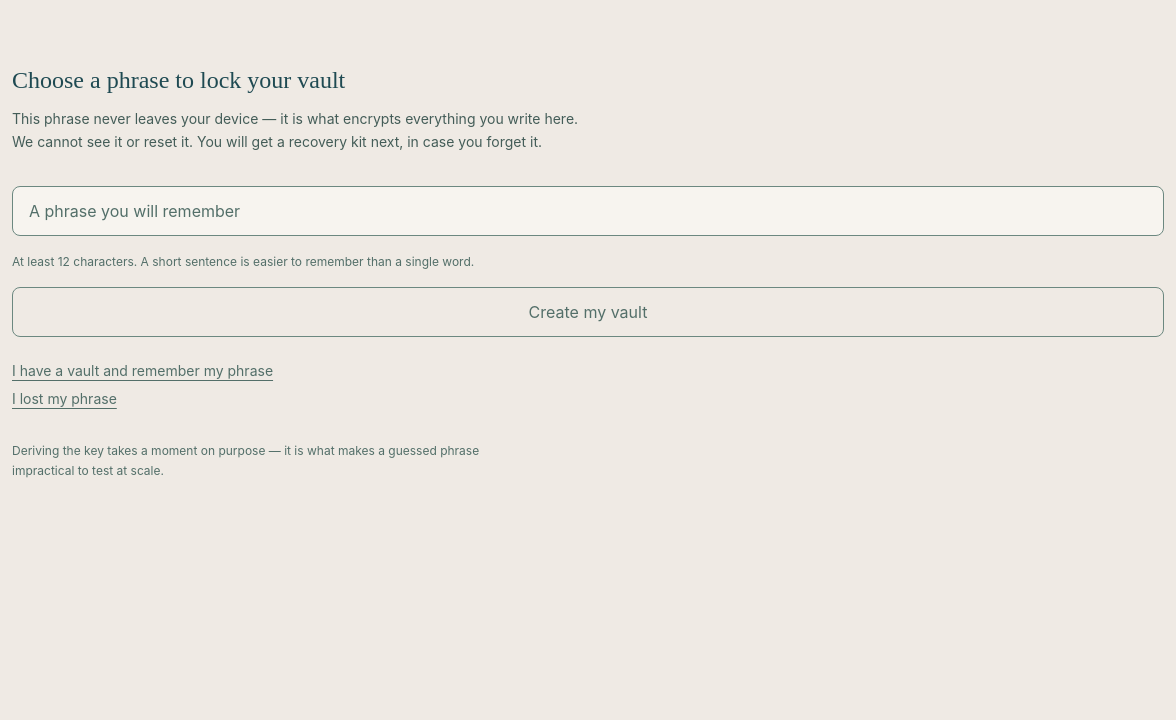
it: the way back › is reachable from the first screen
# Someone who has forgotten their phrase should not have to hunt for this.
Click the button "I lost my phrase" at point(64, 399), box [12,389,117,409]
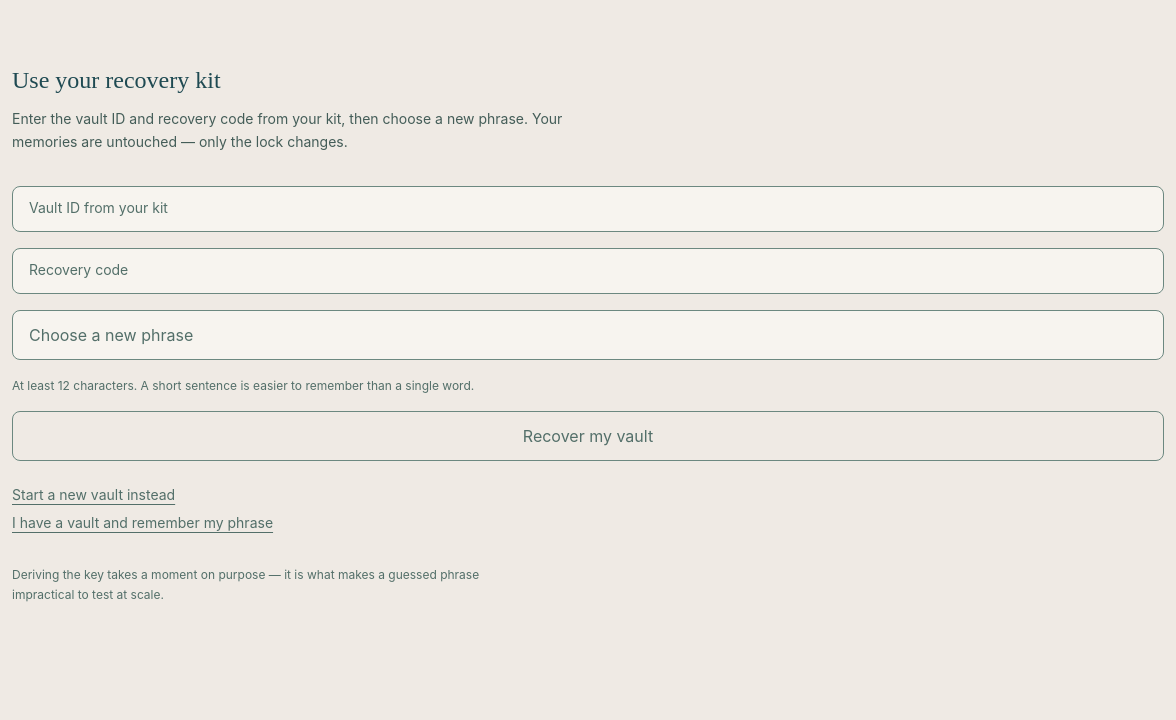
Result: the heading "Use your recovery kit" is shown at [12,67,221,93]
